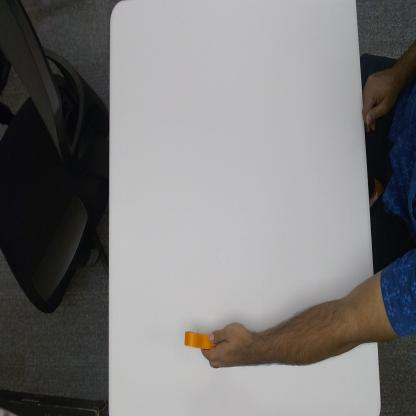Arm: (259, 267, 389, 372)
Hand: (205, 319, 256, 373)
Screwdriver: (181, 320, 215, 354)
